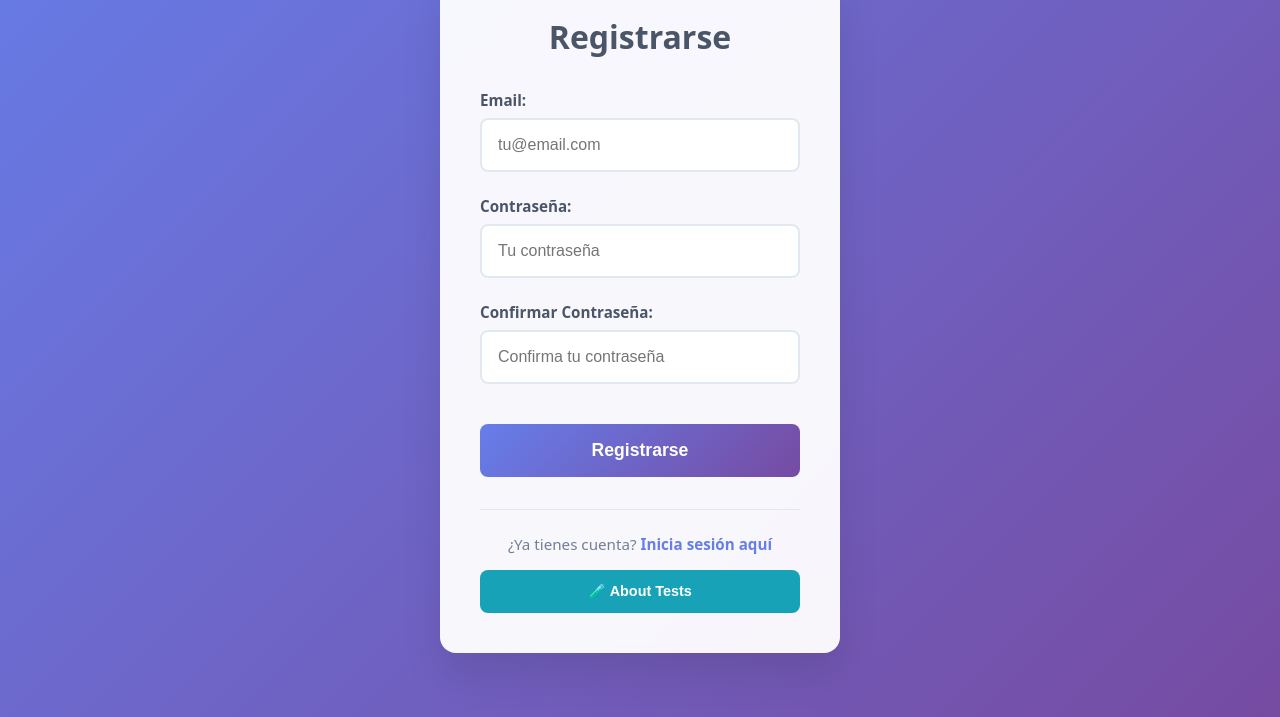
Autenticación de Usuarios › Navegación entre Páginas › debería navegar de registro a login
(page scrolled)
Click the link with test id "login-link": x=707, y=544 x1=641 y1=534 x2=773 y2=554
(page scrolled)
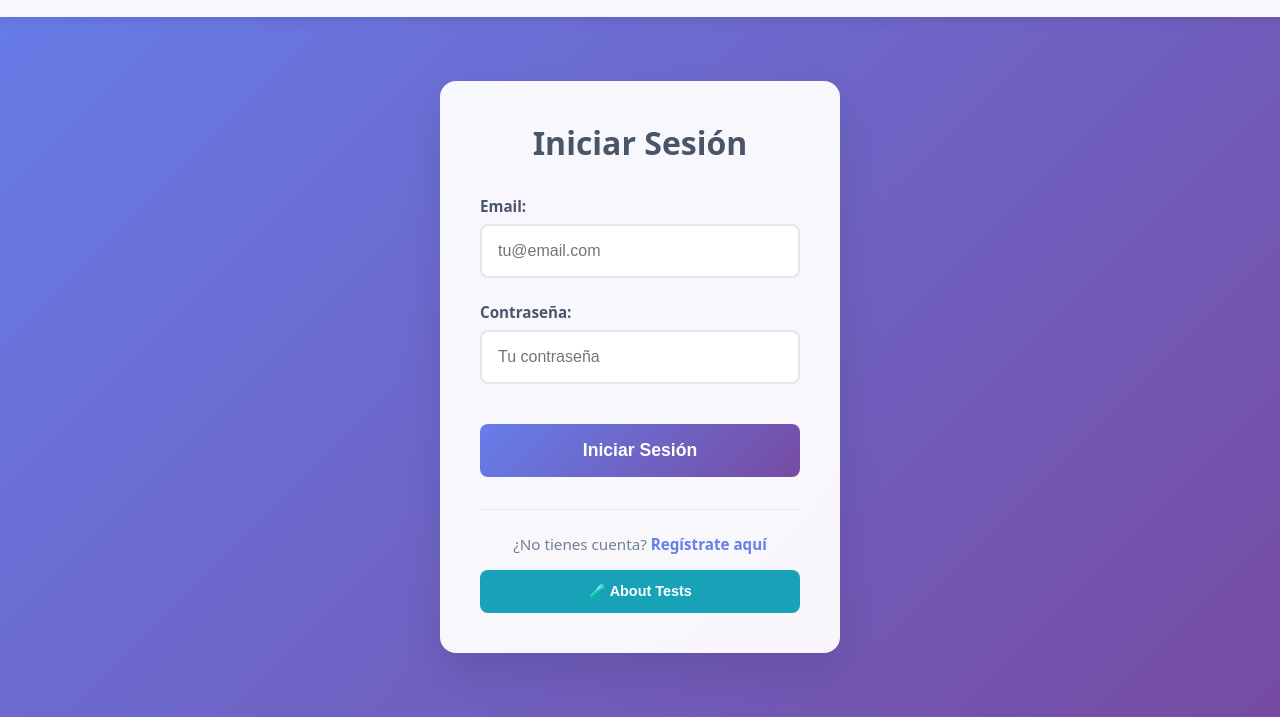
Now the heading "Iniciar Sesión" is shown, box x1=533 y1=121 x2=747 y2=164
